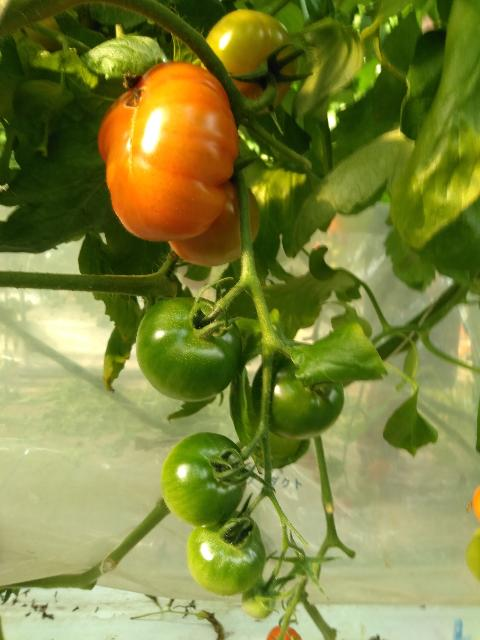l_fully_ripened: (98, 60, 239, 241)
l_green: (136, 297, 243, 402), (252, 343, 344, 440), (161, 432, 247, 527), (186, 511, 266, 596)
l_half_ripened: (201, 9, 299, 115), (168, 173, 260, 267)
